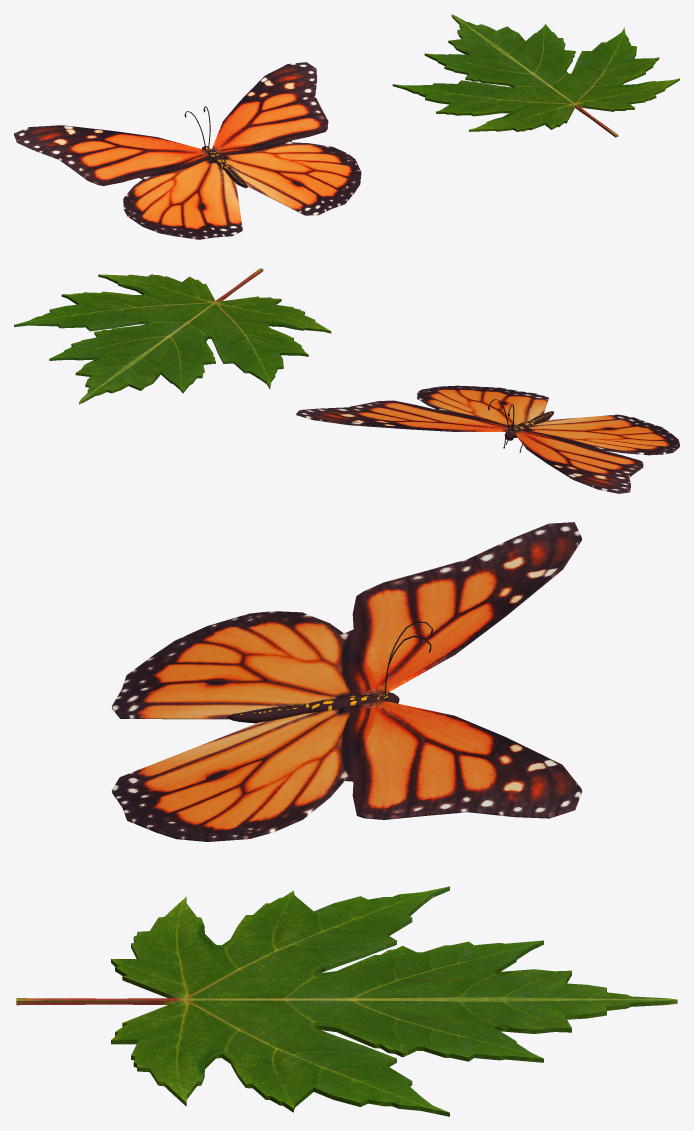
The model's file is Leaf_Fly.glb.
The picture shows the model from 3 angles, top to bottom: view 1: azimuth 30°, elevation 25°; view 2: azimuth 150°, elevation 25°; view 3: azimuth 270°, elevation 25°; orthographic projection. The views are drawn at different scales.
Visible parts, largest first — view 1: Leaf, ButterFly, Half_Butterfly_Right, Half_Leaf_Left, Half_Leaf_Right; view 2: Leaf, ButterFly, Half_Butterfly_Right, Half_Leaf_Left, Half_Leaf_Right; view 3: Leaf, Half_Butterfly_Right, ButterFly, Half_Leaf_Right, Half_Leaf_Left, Half_Butterfly_Left.
Part boxes in pixels (left/top/right/bottom): Leaf: left=394, top=14, right=679, bottom=136; ButterFly: left=14, top=64, right=318, bottom=239; Half_Butterfly_Right: left=204, top=62, right=361, bottom=214; Half_Leaf_Left: left=392, top=15, right=616, bottom=137; Half_Leaf_Right: left=454, top=15, right=679, bottom=128; Leaf: left=14, top=268, right=331, bottom=403; ButterFly: left=313, top=397, right=679, bottom=493; Half_Butterfly_Right: left=296, top=385, right=548, bottom=448; Half_Leaf_Left: left=79, top=269, right=330, bottom=404; Half_Leaf_Right: left=15, top=269, right=259, bottom=398; Leaf: left=16, top=886, right=676, bottom=1116; Half_Butterfly_Right: left=112, top=636, right=581, bottom=841; ButterFly: left=112, top=522, right=581, bottom=789; Half_Leaf_Right: left=17, top=999, right=677, bottom=1116; Half_Leaf_Left: left=16, top=886, right=663, bottom=999; Half_Butterfly_Left: left=112, top=537, right=581, bottom=719.
Size of the model in its own units: 7.35 by 0.735 by 3.61.
2 materials, 2 textured.
